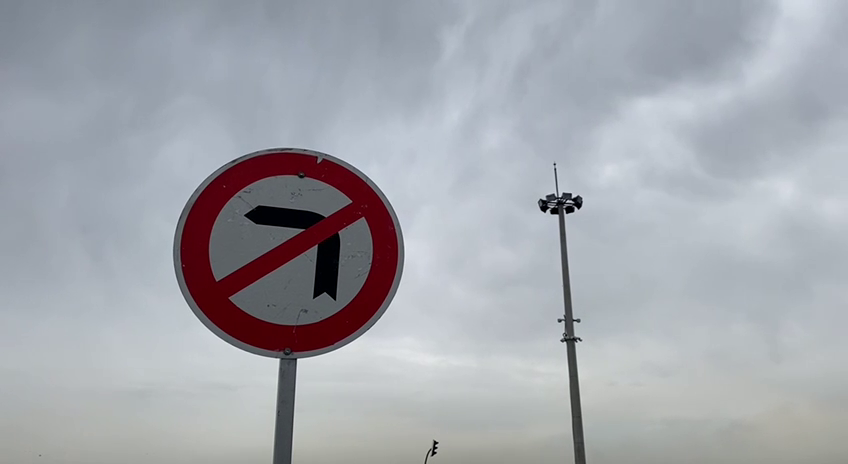noTurnLeft: (168, 140, 409, 363)
